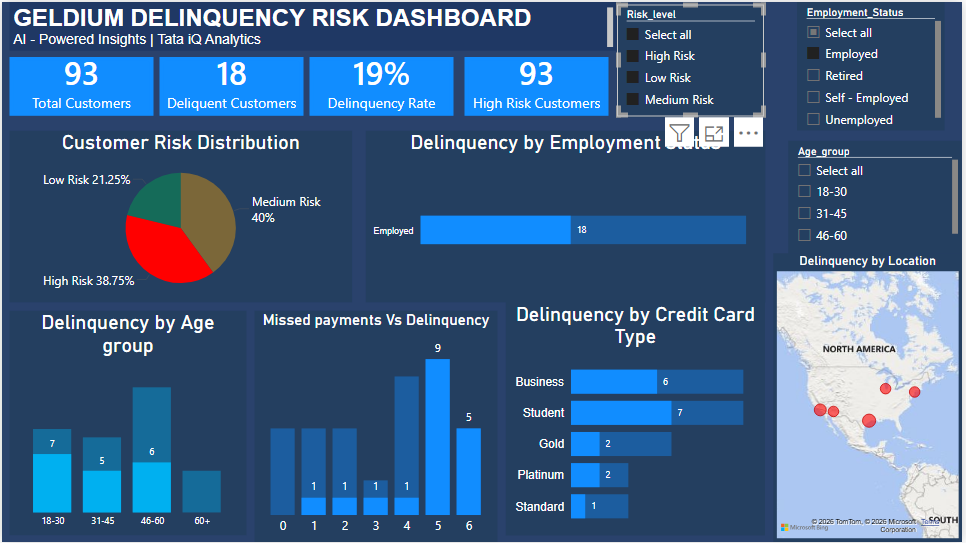

Layout of this report page (visuals, bound fields, positions):
{"tool":"powerbi","page":{"name":"Page 1","canvas":[1280,720],"ordinal":0},"visuals":[{"type":"textbox","box":[10,0,810,65],"z":0},{"type":"cardVisual","fields":{"Data":["CountNonNull(Delinquency_prediction_dataset.Customer_ID)"]},"box":[10,74,192,78],"z":1000},{"type":"cardVisual","fields":{"Data":["Delinquency_prediction_dataset.Deliquent Customers"]},"box":[210,74,192,78],"z":2000},{"type":"cardVisual","fields":{"Data":["Delinquency_prediction_dataset.Delinquency Rate"]},"box":[410,74,192,78],"z":3000},{"type":"cardVisual","fields":{"Data":["CountNonNull(Delinquency_prediction_dataset.Customer_ID)"]},"box":[617.5,74.1,192.1,78.2],"z":4000},{"type":"pieChart","title":"Customer Risk Distribution","fields":{"Y":["CountNonNull(Delinquency_prediction_dataset.Customer_ID)"],"Category":["Delinquency_prediction_dataset.Risk_level"]},"box":[9.6,171.5,456.9,229.2],"z":5000},{"type":"clusteredBarChart","title":"Delinquency by Employment status","fields":{"Category":["Delinquency_prediction_dataset.Employment_Status"],"Y":["Delinquency_prediction_dataset.Deliquent Customers"]},"box":[484.3,171.4,532.9,228.6],"z":6000},{"type":"clusteredColumnChart","title":"Delinquency by Age group","fields":{"Category":["Delinquency_prediction_dataset.Age_group"],"Y":["Delinquency_prediction_dataset.Deliquent Customers"]},"box":[9.6,411.7,315.6,299.1],"z":7000},{"type":"clusteredColumnChart","title":"Missed payments Vs Delinquency","fields":{"Category":["Delinquency_prediction_dataset.Missed_Payments"],"Y":["Delinquency_prediction_dataset.Deliquent Customers"]},"box":[337.1,411.4,324.3,308.6],"z":8000},{"type":"clusteredBarChart","title":"Delinquency by Credit Card Type","fields":{"Category":["Delinquency_prediction_dataset.Credit_Card_Type"],"Y":["Delinquency_prediction_dataset.Deliquent Customers"]},"box":[671.4,400,345.7,311.4],"z":9000},{"type":"map","title":"Delinquency by Location","fields":{"Category":["Delinquency_prediction_dataset.Location"],"Series":["Delinquency_prediction_dataset.Risk_level"],"Size":["Delinquency_prediction_dataset.Deliquent Customers"]},"box":[1028.3,335,251.7,385],"z":10000},{"type":"slicer","fields":{"Values":["Delinquency_prediction_dataset.Risk_level"]},"box":[820,2.9,197.1,150],"z":11000},{"type":"slicer","fields":{"Values":["Delinquency_prediction_dataset.Employment_Status"]},"box":[1060,0,197.1,171.4],"z":12000},{"type":"slicer","fields":{"Values":["Delinquency_prediction_dataset.Age_group"]},"box":[1048.6,184.3,231.4,150],"z":13000}]}

Visuals, with their boxes in screenshot pixels (x1, y1, x2, y2), scaled from the page's 1280x720 canvas onto the 966x543 screenshot:
textbox: [x1=8, y1=0, x2=619, y2=49]
cardVisual - CountNonNull(Delinquency_prediction_dataset.Customer_ID): [x1=8, y1=56, x2=152, y2=115]
cardVisual - Delinquency_prediction_dataset.Deliquent Customers: [x1=158, y1=56, x2=303, y2=115]
cardVisual - Delinquency_prediction_dataset.Delinquency Rate: [x1=309, y1=56, x2=454, y2=115]
cardVisual - CountNonNull(Delinquency_prediction_dataset.Customer_ID): [x1=466, y1=56, x2=611, y2=115]
"Customer Risk Distribution" pieChart: [x1=7, y1=129, x2=352, y2=302]
"Delinquency by Employment status" clusteredBarChart: [x1=365, y1=129, x2=768, y2=302]
"Delinquency by Age group" clusteredColumnChart: [x1=7, y1=310, x2=245, y2=536]
"Missed payments Vs Delinquency" clusteredColumnChart: [x1=254, y1=310, x2=499, y2=542]
"Delinquency by Credit Card Type" clusteredBarChart: [x1=507, y1=302, x2=768, y2=537]
"Delinquency by Location" map: [x1=776, y1=253, x2=965, y2=542]
slicer - Delinquency_prediction_dataset.Risk_level: [x1=619, y1=2, x2=768, y2=115]
slicer - Delinquency_prediction_dataset.Employment_Status: [x1=800, y1=0, x2=949, y2=129]
slicer - Delinquency_prediction_dataset.Age_group: [x1=791, y1=139, x2=965, y2=252]
